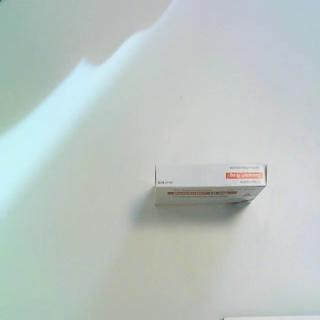dolcontin10mg: (154, 161, 269, 217)
